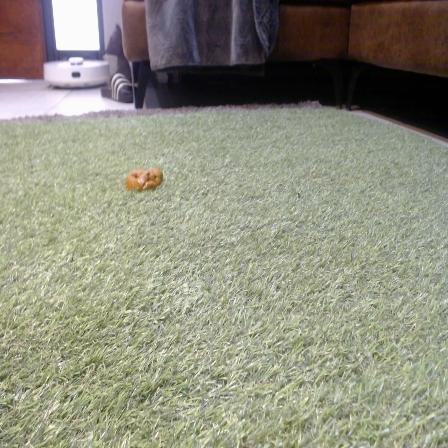dog-poop: (119, 161, 170, 195)
